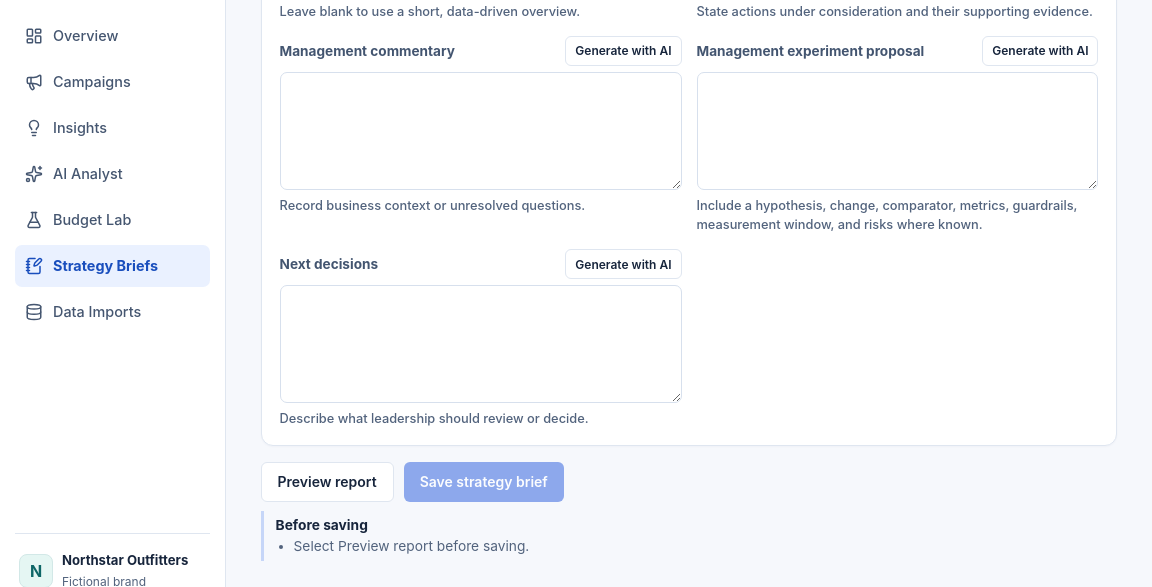
it: requests optional synthesis only when clicked and applies it through a revision
(page scrolled)
What coordinates should you click on to do the following:
click the button "Preview report"
I would click on:
 (327, 482)
Its box is x1=260 y1=462 x2=394 y2=502.
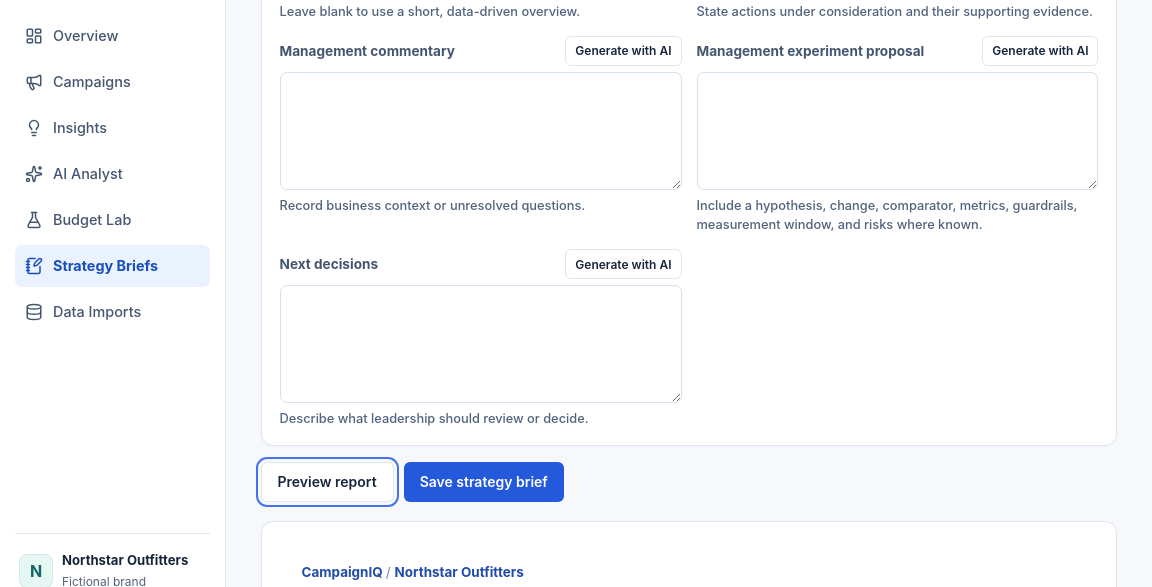
What coordinates should you click on to do the following:
click the button "Save strategy brief"
I would click on:
 (484, 482)
Its box is x1=404 y1=462 x2=564 y2=502.
(page scrolled)
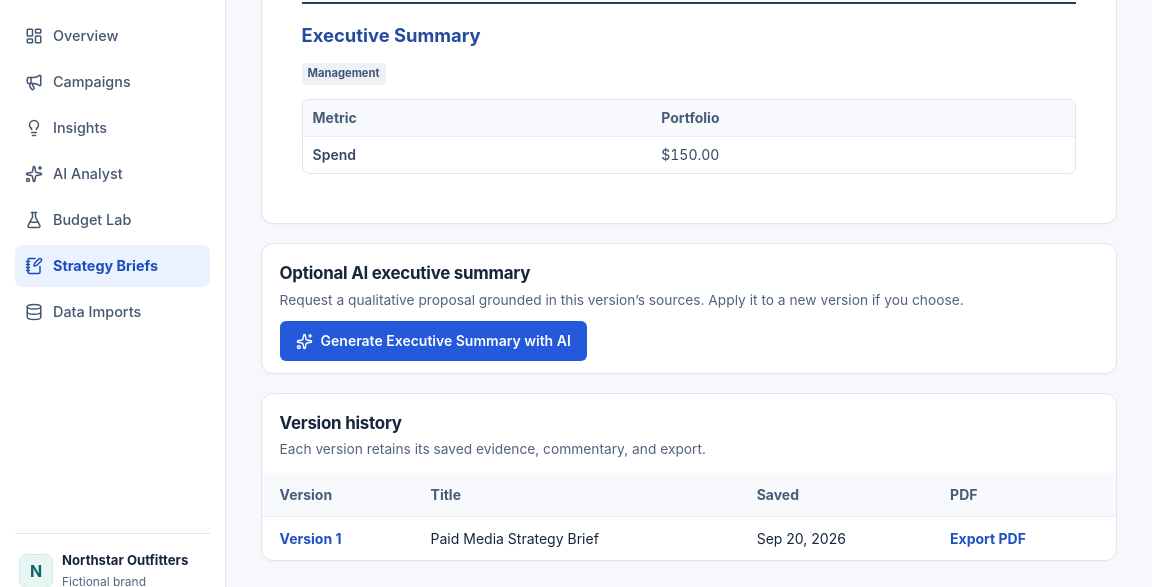
What coordinates should you click on to do the following:
click the button "Generate Executive Summary with AI"
I would click on:
 (433, 341)
Its box is x1=280 y1=321 x2=587 y2=361.
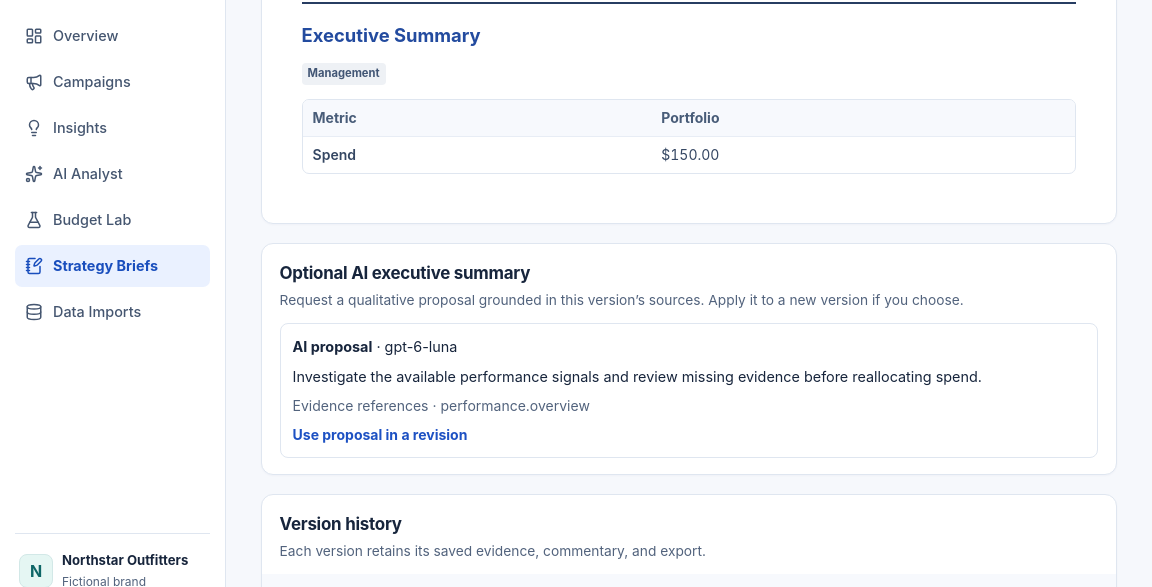
What coordinates should you click on to do the following:
click the link "Use proposal in a revision"
I would click on:
 (380, 435)
Its box is x1=292 y1=426 x2=467 y2=443.
(page scrolled)
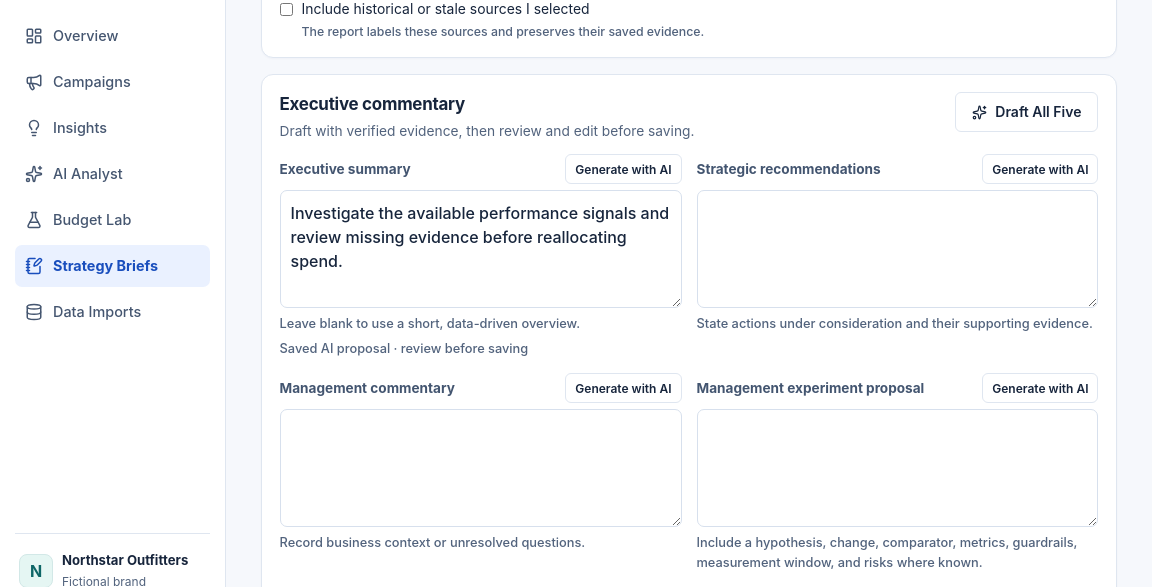
Check: the text box labelled "Executive summary" holds "Investigate the available performance signals and review missing evidence before reallocating spend.", box x1=280 y1=190 x2=682 y2=308
